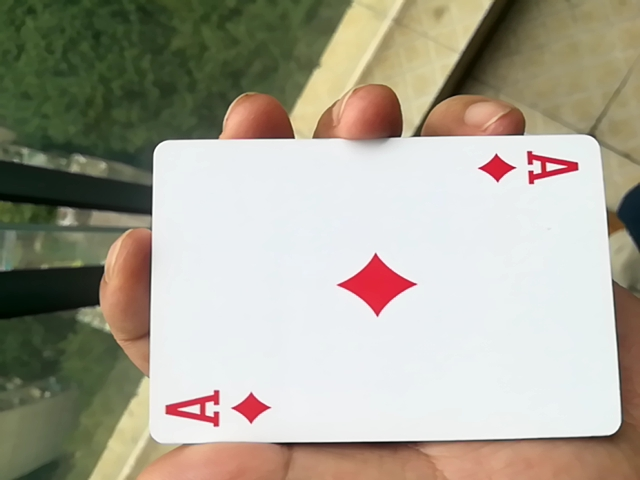fk a: (134, 138, 615, 459)
